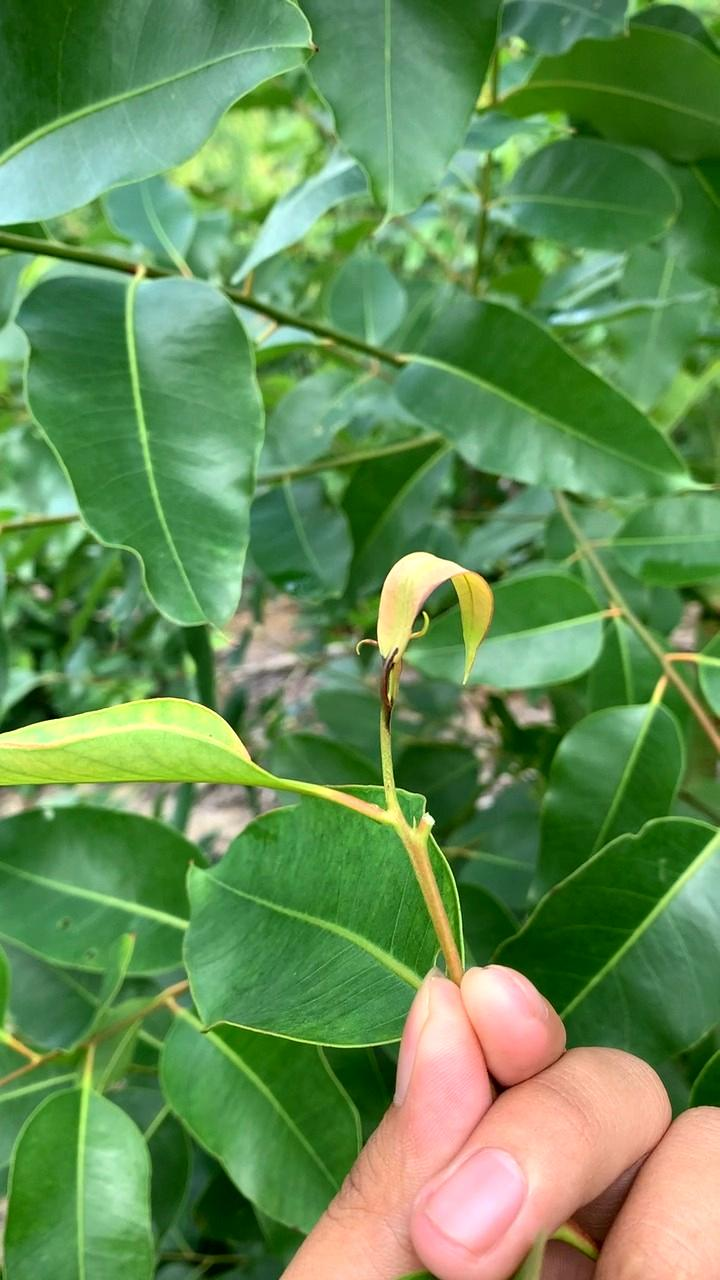Helopeltis-Withered Sprout: (353, 523, 499, 747)
